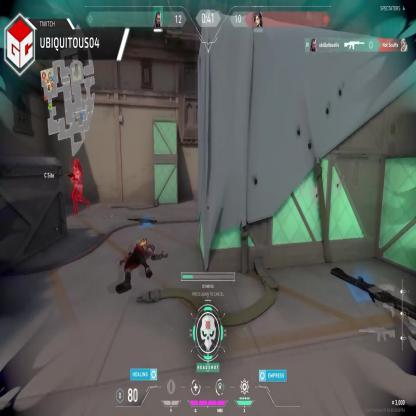enemy: (70, 158, 90, 216)
enemy_head: (74, 160, 78, 170)
